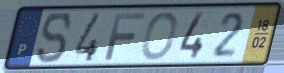2: (210, 10, 248, 60)
4: (72, 11, 101, 63), (177, 9, 206, 61)
F: (103, 11, 148, 62)
O: (139, 11, 180, 62)
S: (35, 10, 74, 66)
